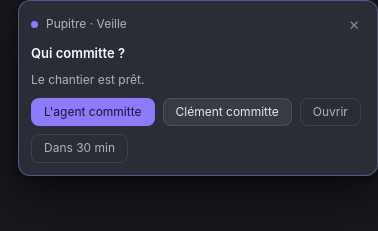
Scenario: un envoi refusé garde la notification et montre l’erreur
The image size is (378, 231).
Click the button "L'agent committe" at (93, 112), box [31,98,154,126]
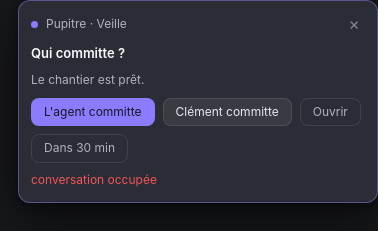
Expected: the text "conversation occupée" is shown, [31,172,157,187]
